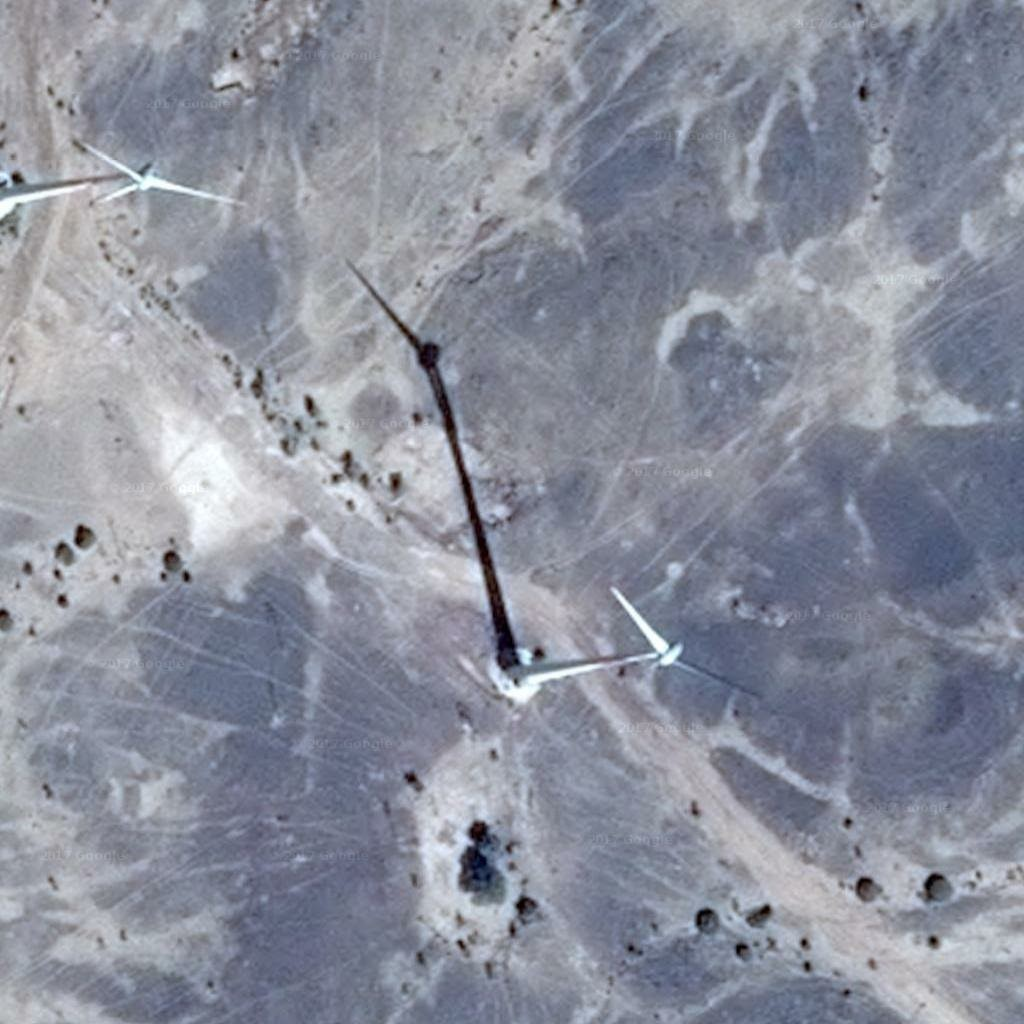Windmill: (345, 261, 519, 620)
